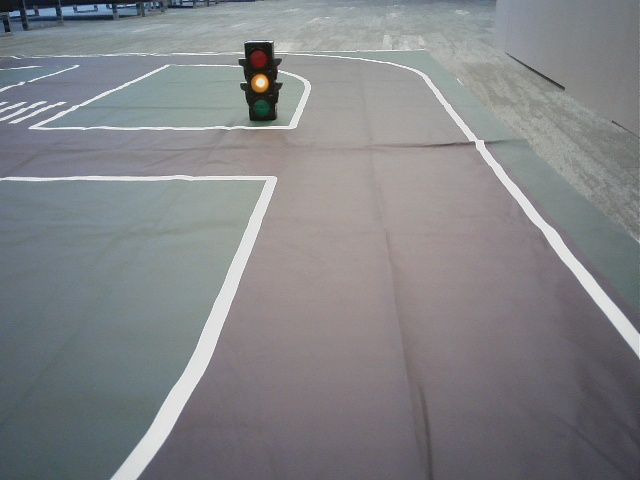yellow: (243, 45, 275, 121)
